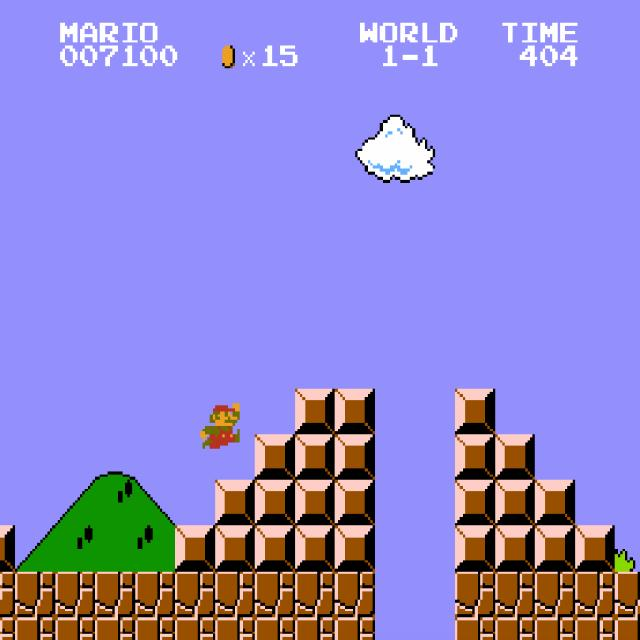hard_block: (215, 480, 255, 526), (255, 434, 295, 480), (255, 480, 295, 526), (295, 434, 335, 480), (295, 480, 335, 526), (335, 434, 375, 480), (335, 480, 375, 526), (455, 434, 495, 480), (455, 480, 495, 526), (495, 434, 535, 480), (495, 480, 535, 526), (535, 480, 575, 526), (175, 526, 215, 571), (215, 526, 255, 571), (255, 526, 295, 571), (295, 389, 335, 434), (295, 526, 335, 571), (335, 389, 375, 434), (335, 526, 375, 571), (455, 389, 495, 434), (455, 526, 495, 571), (495, 526, 535, 571), (535, 526, 575, 571), (575, 526, 615, 571), (0, 526, 15, 571)
little_mario: (197, 400, 240, 449)
undestructible_block: (15, 572, 55, 617), (55, 572, 95, 617), (95, 572, 135, 617), (135, 572, 175, 617), (175, 572, 215, 617), (215, 572, 255, 617), (255, 572, 295, 617), (295, 572, 335, 617), (335, 572, 375, 617), (455, 572, 495, 617), (495, 572, 535, 617), (535, 572, 575, 617), (575, 572, 615, 617), (614, 571, 640, 617), (15, 617, 55, 640), (55, 617, 95, 640), (95, 617, 135, 640), (135, 617, 175, 640), (175, 617, 215, 640), (215, 617, 255, 640), (255, 617, 295, 640), (295, 617, 335, 640), (335, 617, 375, 640), (455, 617, 495, 640), (495, 617, 535, 640), (535, 617, 575, 640), (575, 617, 615, 640), (0, 572, 15, 617), (614, 617, 640, 639), (0, 617, 15, 640)
